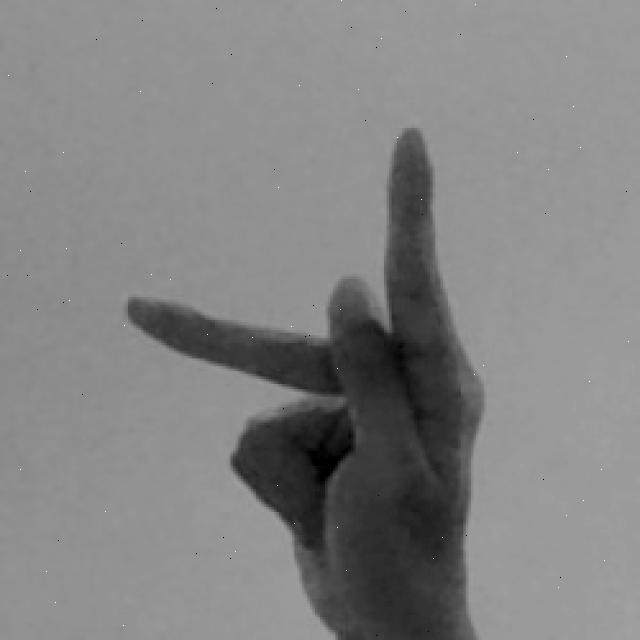K: (119, 122, 492, 640)
